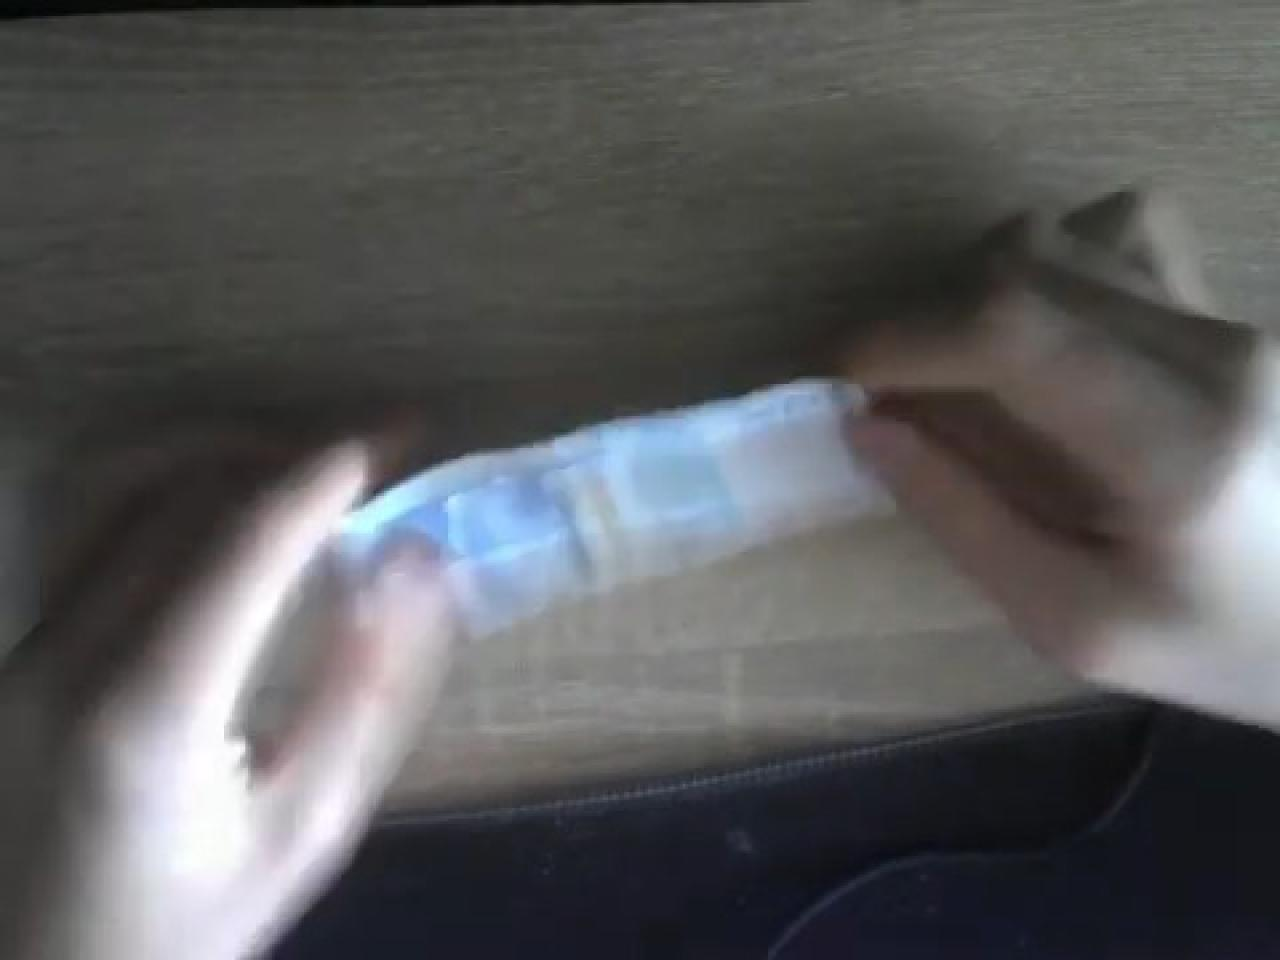20leva: (323, 373, 893, 637)
